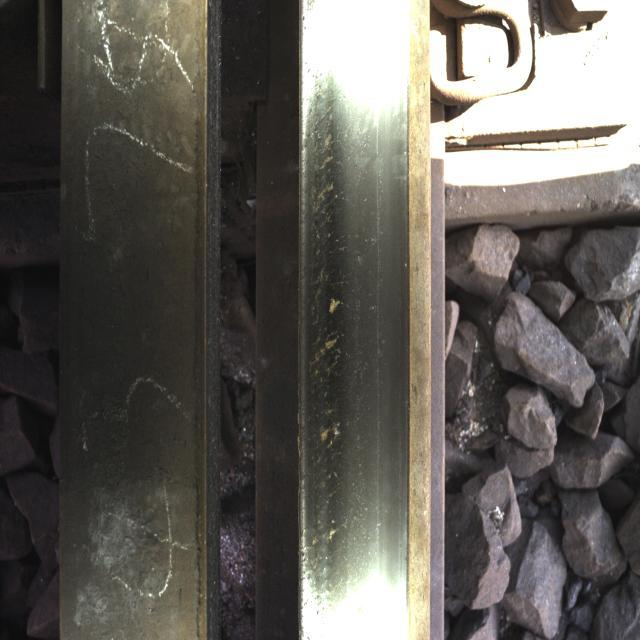scar: (291, 75, 364, 600)
